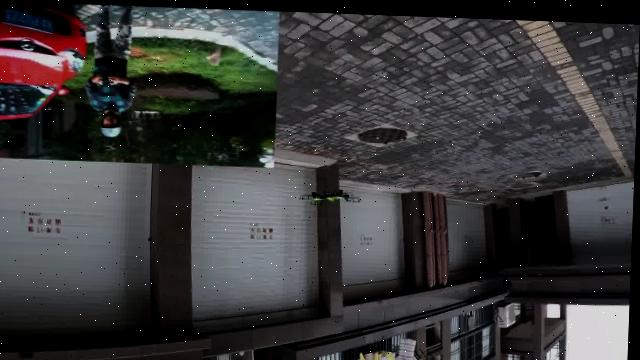drone: (285, 163, 381, 223)
